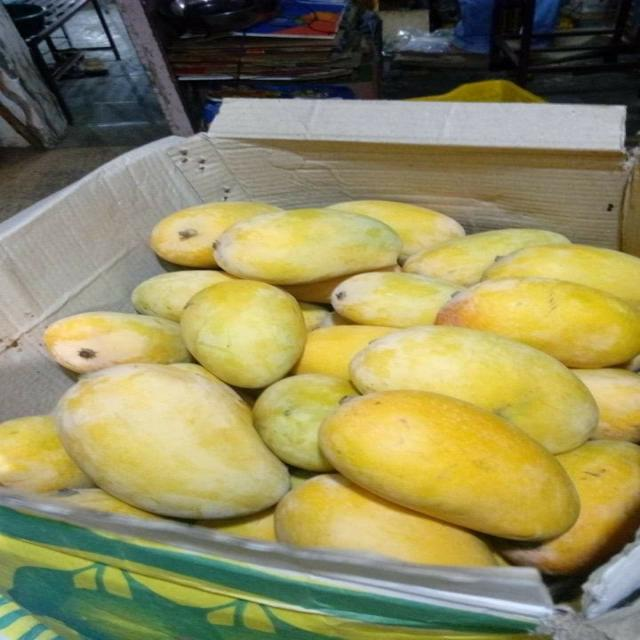mango: (320, 391, 579, 540), (56, 365, 289, 518), (351, 326, 598, 452), (276, 474, 496, 566), (501, 441, 639, 574), (436, 278, 639, 368), (216, 209, 401, 284), (181, 280, 307, 388), (254, 374, 357, 471), (403, 229, 569, 286), (484, 245, 639, 303), (44, 312, 191, 372), (151, 202, 281, 268), (330, 200, 464, 261), (0, 416, 93, 492), (332, 273, 461, 327), (293, 325, 397, 380), (132, 270, 234, 321), (574, 369, 639, 442), (169, 363, 255, 406), (48, 488, 161, 519), (195, 507, 276, 540), (282, 274, 352, 303), (300, 302, 330, 330), (320, 311, 354, 327), (290, 468, 317, 488), (624, 355, 639, 372)
